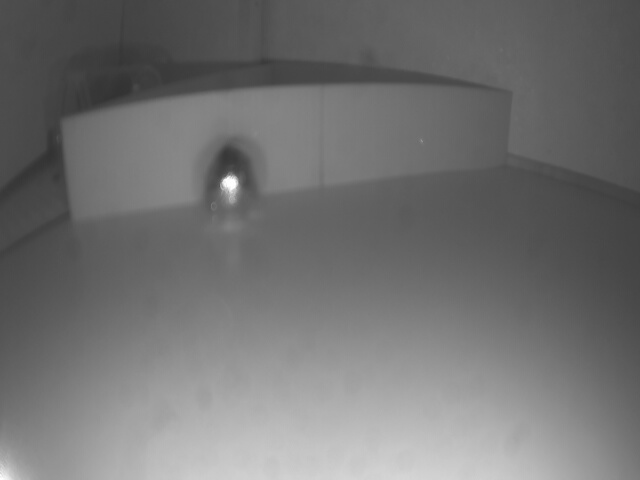Red: (65, 88, 511, 228)
